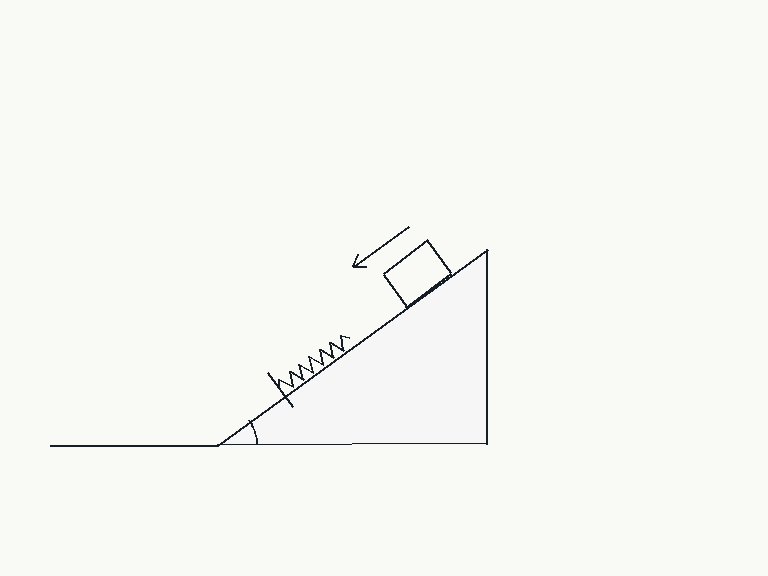block: (380, 239, 453, 308)
ramp: (215, 246, 488, 446)
spring: (277, 333, 351, 390)
